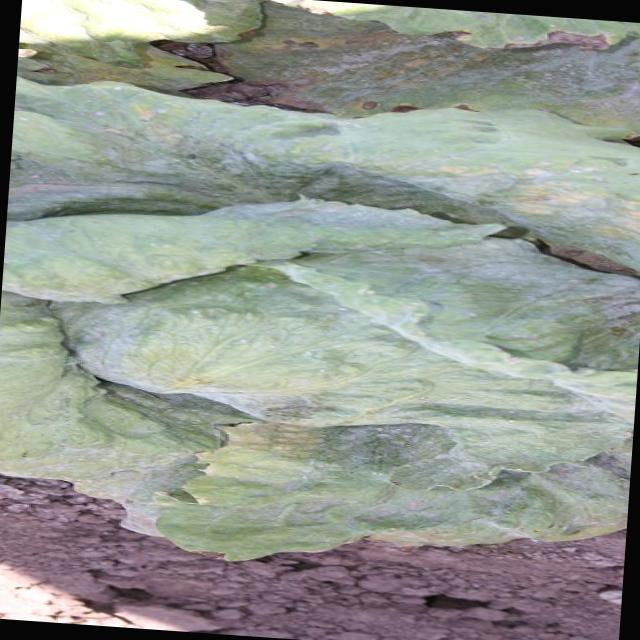Powdery_Mildew: (0, 88, 624, 513)
